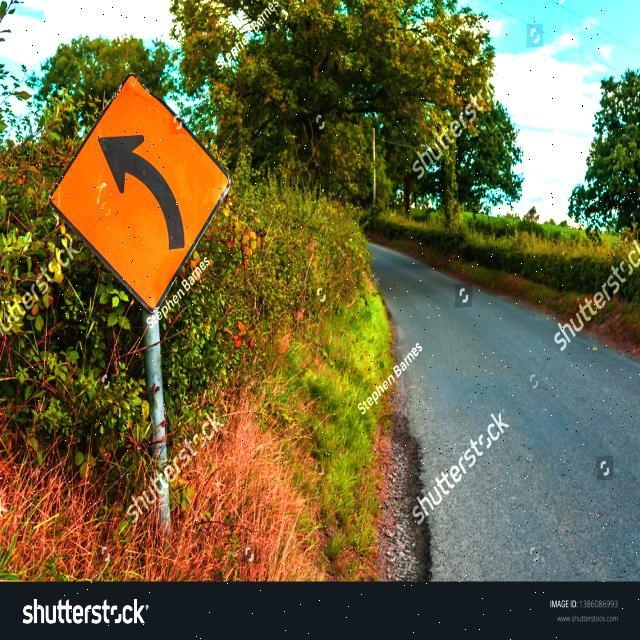Traffic sign: (45, 72, 237, 312)
